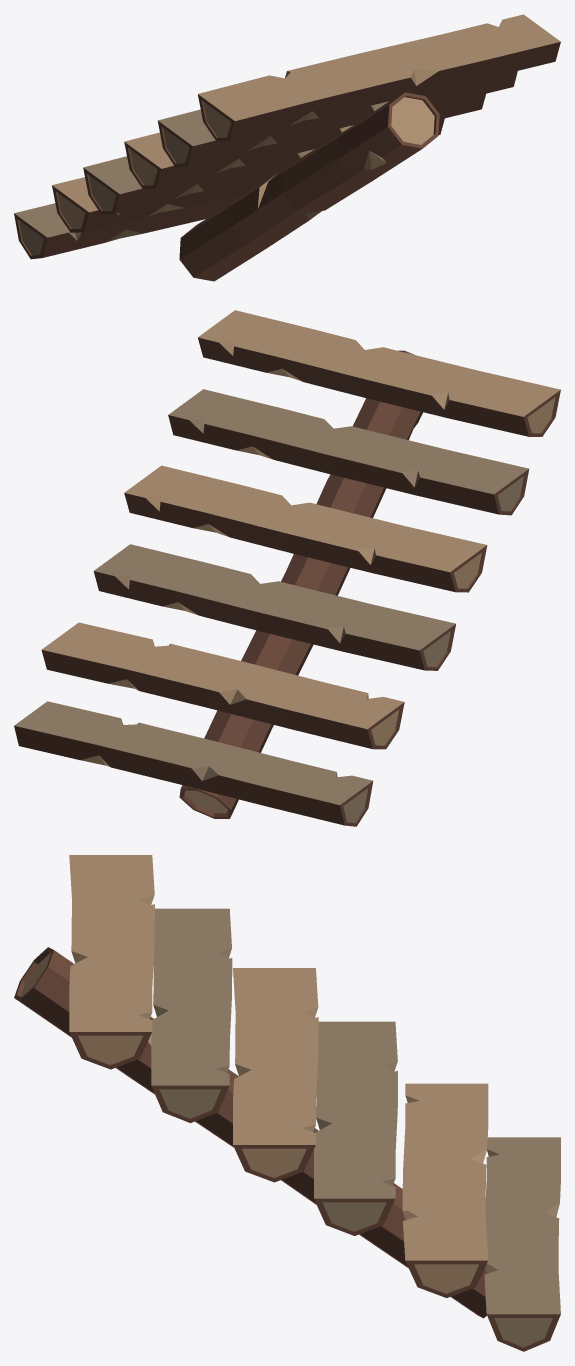
File: Log Stair.fbx
The picture shows the model from 3 angles, top to bottom: view 1: azimuth 30°, elevation 25°; view 2: azimuth 150°, elevation 25°; view 3: azimuth 270°, elevation 25°; orthographic projection. The views are drawn at different scales.
Parts seen in each view (by area): view 1: Log Stair Part 07, Log Stair Part 01, Log Stair Part 06, Log Stair Part 05, Log Stair Part 04, Log Stair Part 02, Log Stair Part 03; view 2: Log Stair Part 05, Log Stair Part 03, Log Stair Part 07, Log Stair Part 04, Log Stair Part 06, Log Stair Part 02, Log Stair Part 01; view 3: Log Stair Part 03, Log Stair Part 07, Log Stair Part 05, Log Stair Part 04, Log Stair Part 06, Log Stair Part 02, Log Stair Part 01.
Part boxes in pixels (x1,y1,x2,y2): Log Stair Part 07: [198, 14, 560, 141]; Log Stair Part 01: [179, 92, 439, 281]; Log Stair Part 06: [157, 71, 517, 167]; Log Stair Part 05: [124, 94, 485, 188]; Log Stair Part 04: [83, 118, 444, 214]; Log Stair Part 02: [14, 194, 244, 259]; Log Stair Part 03: [52, 174, 275, 232]; Log Stair Part 05: [124, 465, 487, 592]; Log Stair Part 03: [41, 622, 404, 749]; Log Stair Part 07: [198, 310, 560, 436]; Log Stair Part 04: [93, 544, 455, 670]; Log Stair Part 06: [168, 389, 529, 515]; Log Stair Part 02: [14, 701, 373, 826]; Log Stair Part 01: [179, 350, 422, 818]; Log Stair Part 03: [402, 1083, 488, 1297]; Log Stair Part 07: [69, 855, 154, 1069]; Log Stair Part 05: [233, 968, 318, 1182]; Log Stair Part 04: [314, 1021, 397, 1235]; Log Stair Part 06: [151, 908, 232, 1122]; Log Stair Part 02: [484, 1137, 560, 1351]; Log Stair Part 01: [14, 947, 486, 1318].
Bounding box in the file's own units: 1.87 × 1.78 × 2.37.
